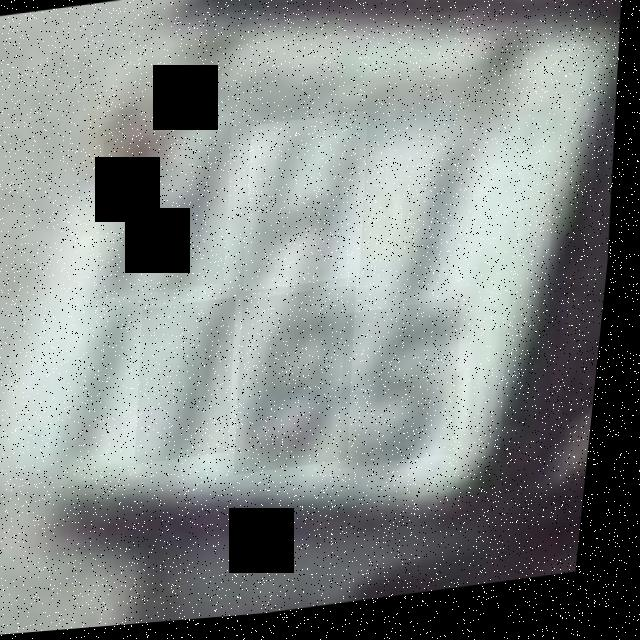1: (137, 301, 251, 468)
5: (341, 306, 477, 476)
8: (235, 282, 373, 480)
H: (241, 116, 380, 305)
N: (95, 128, 243, 302)
